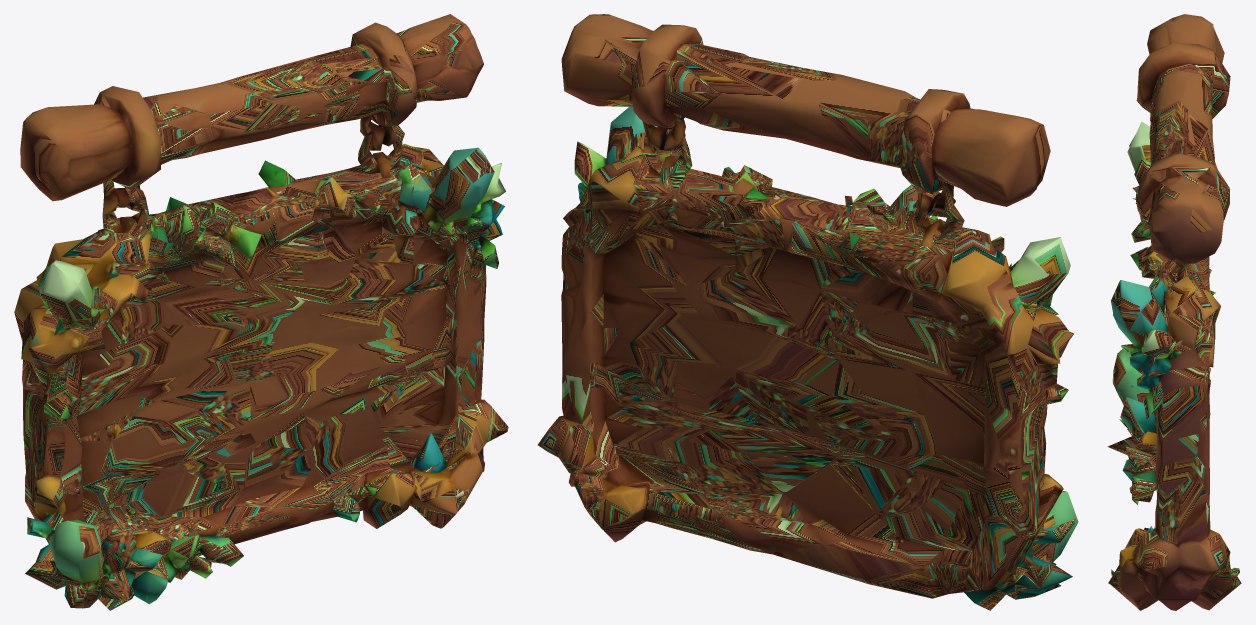
File: emerald_cave_sign_01.glb
3 views of the same model, side by side, from view 1: azimuth 30°, elevation 25°; view 2: azimuth 150°, elevation 25°; view 3: azimuth 270°, elevation 25° (orthographic). The views are drawn at different scales.
Parts seen in each view (by area): view 1: tripo_node_6e3db051-a3ea-419e-a745-e4d9f5d2c46d; view 2: tripo_node_6e3db051-a3ea-419e-a745-e4d9f5d2c46d; view 3: tripo_node_6e3db051-a3ea-419e-a745-e4d9f5d2c46d.
Boxes of the visible parts, box(x1,y1,x2,y2) form: tripo_node_6e3db051-a3ea-419e-a745-e4d9f5d2c46d: box(14, 14, 508, 610); tripo_node_6e3db051-a3ea-419e-a745-e4d9f5d2c46d: box(537, 14, 1078, 610); tripo_node_6e3db051-a3ea-419e-a745-e4d9f5d2c46d: box(1107, 14, 1241, 610).
Bounding box in the file's own units: 0.9822 × 0.9789 × 0.267.
Materials: 1 (1 with a texture image).
